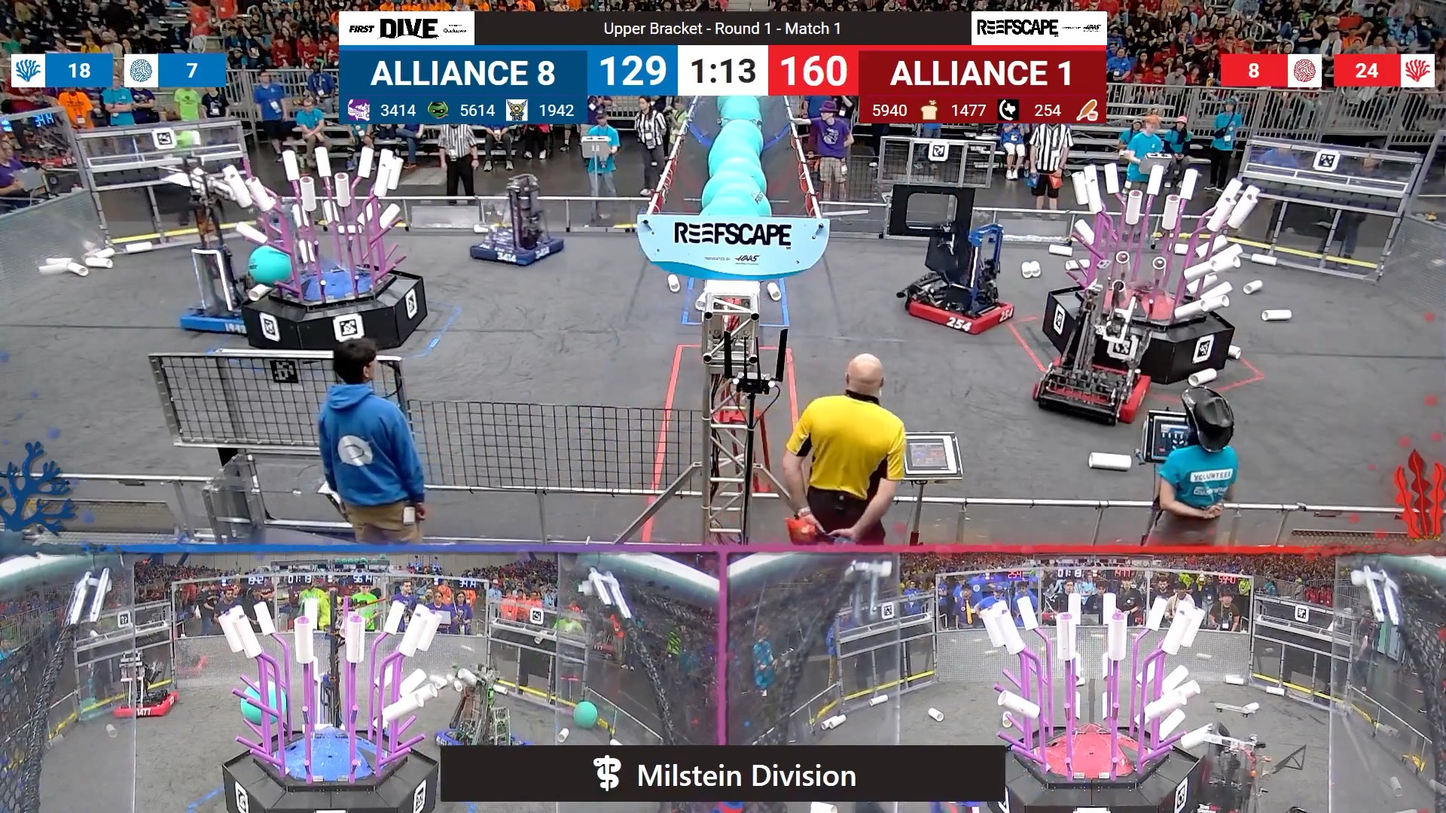bumpers: (1030, 355, 1158, 427), (899, 284, 1023, 340), (467, 229, 575, 270), (178, 291, 259, 339), (110, 690, 187, 724)
